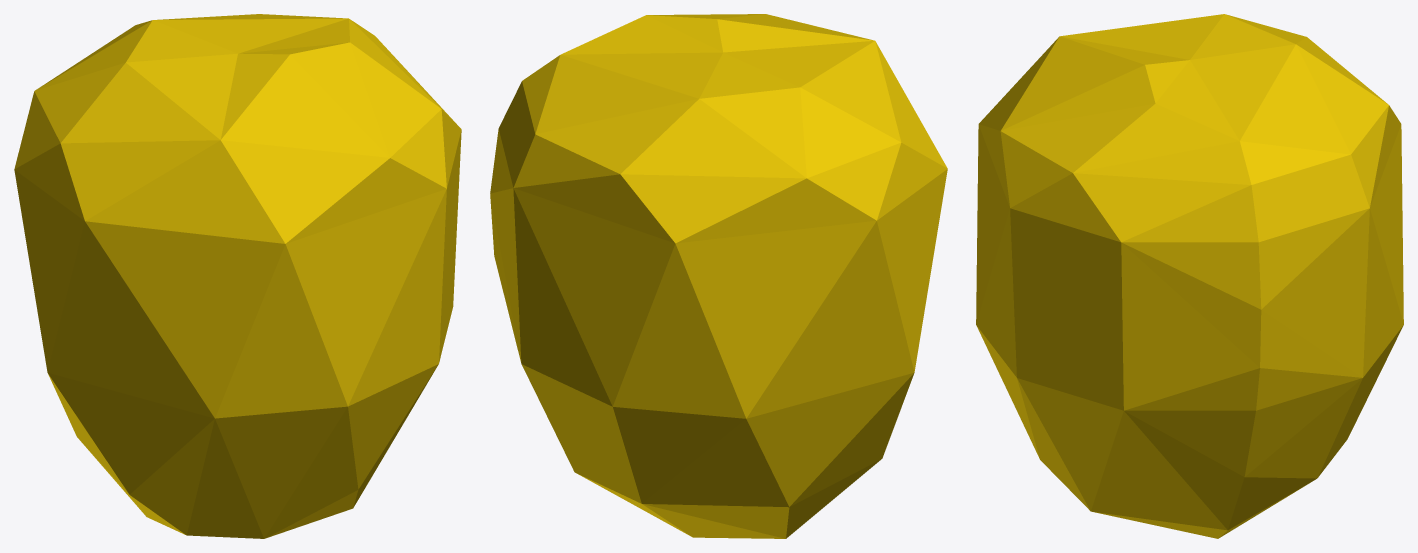
The model's file is corn_one.fbx.
The picture shows the model from 3 angles, left to right: view 1: azimuth 30°, elevation 25°; view 2: azimuth 150°, elevation 25°; view 3: azimuth 270°, elevation 25°; orthographic projection. The views are drawn at different scales.
Parts seen in each view (by area): view 1: pSphere1; view 2: pSphere1; view 3: pSphere1.
Part boxes in pixels (box(x1,y1,x2,y2)): pSphere1: box(14, 14, 461, 538); pSphere1: box(490, 14, 947, 538); pSphere1: box(976, 14, 1403, 538).
Size of the model in its own units: 1.57 by 1.89 by 1.55.
